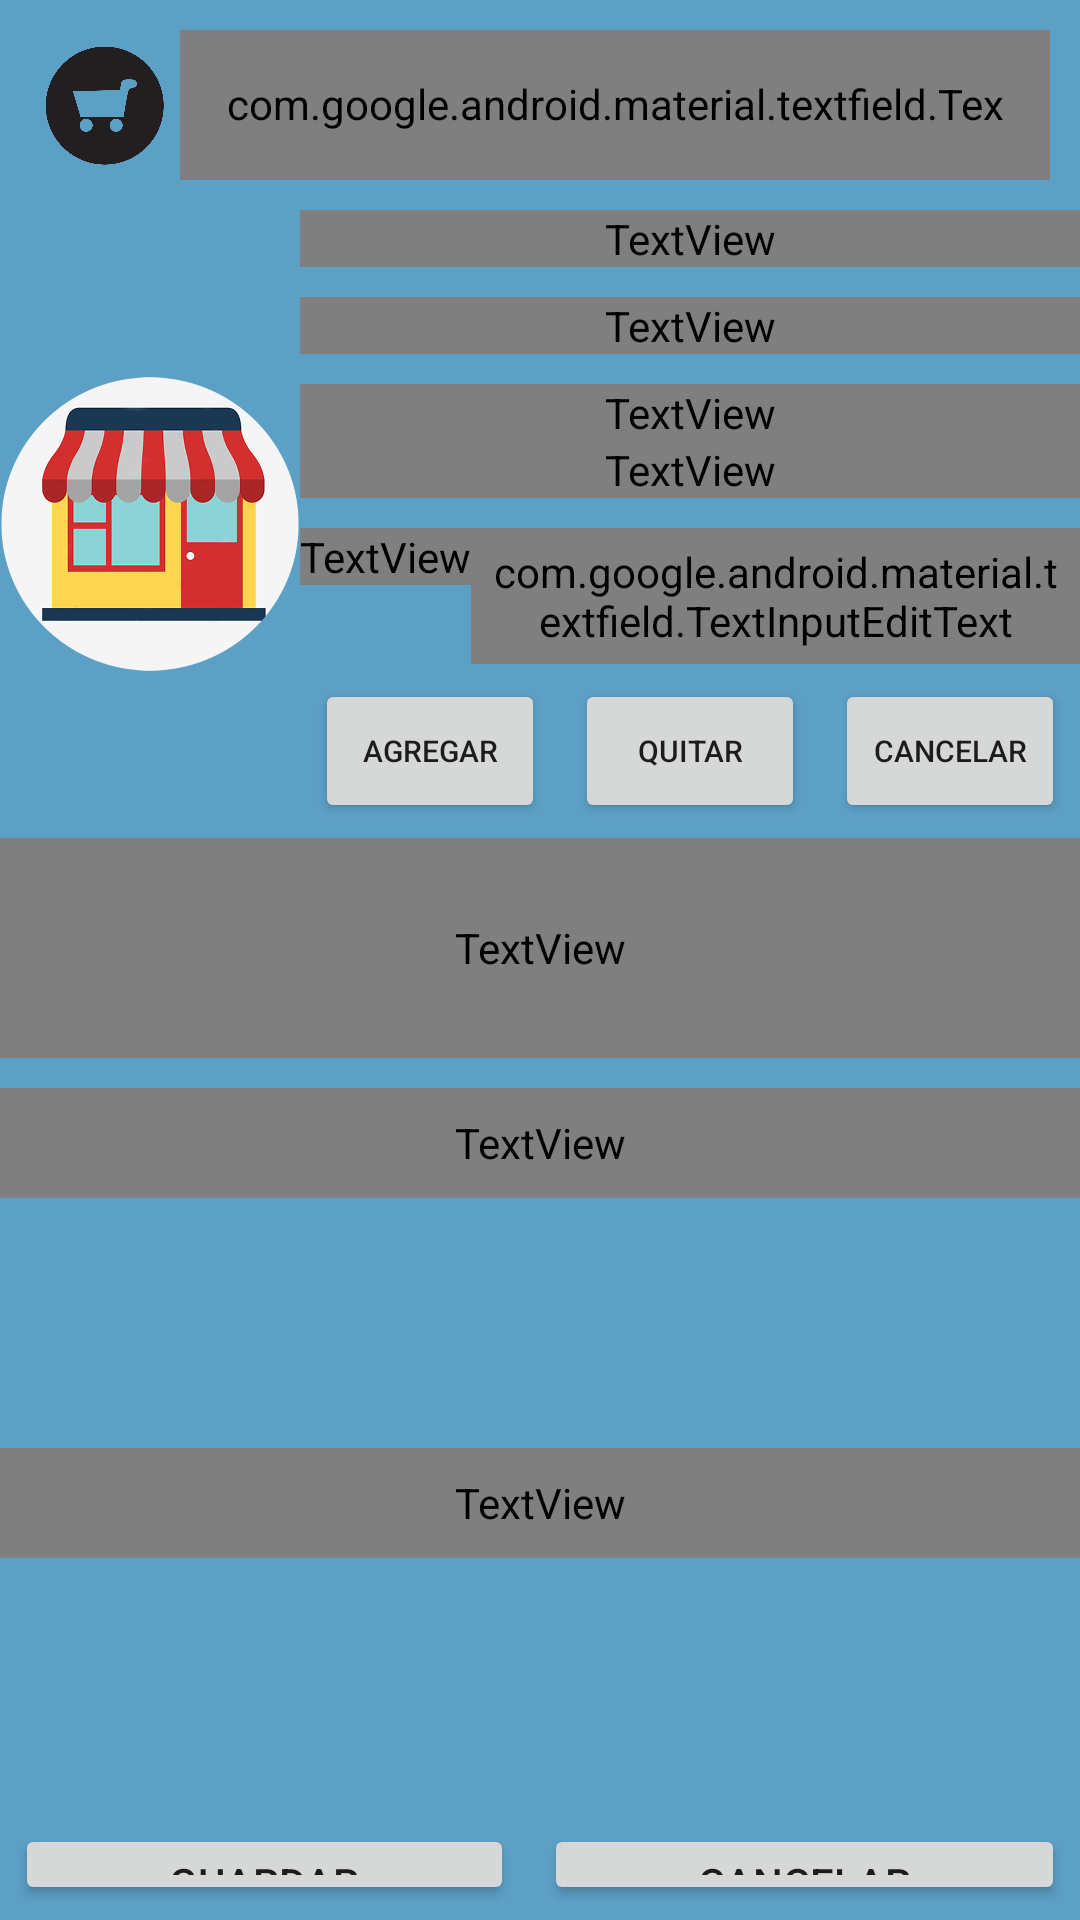

Screen size 1080 x 1920. Icon name, then its center in pixels as point (x, y):
businness: point (150, 524)
shopcart: point (105, 106)
